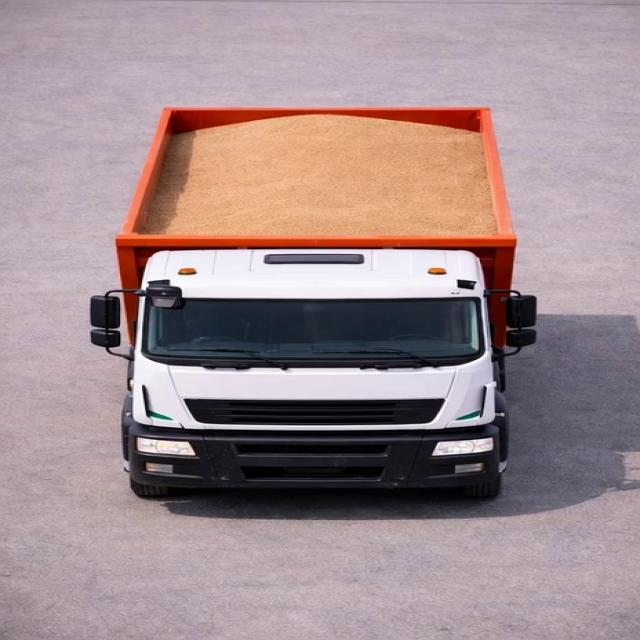trailer: (117, 104, 520, 252)
truck: (79, 83, 541, 504)
